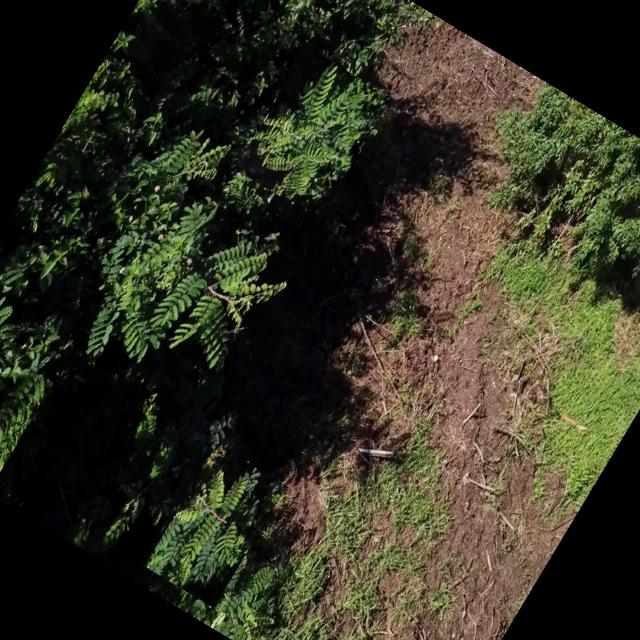Mysore-Thorn-Weed: (36, 112, 319, 416), (234, 48, 391, 220), (144, 445, 286, 608), (0, 319, 53, 490)
